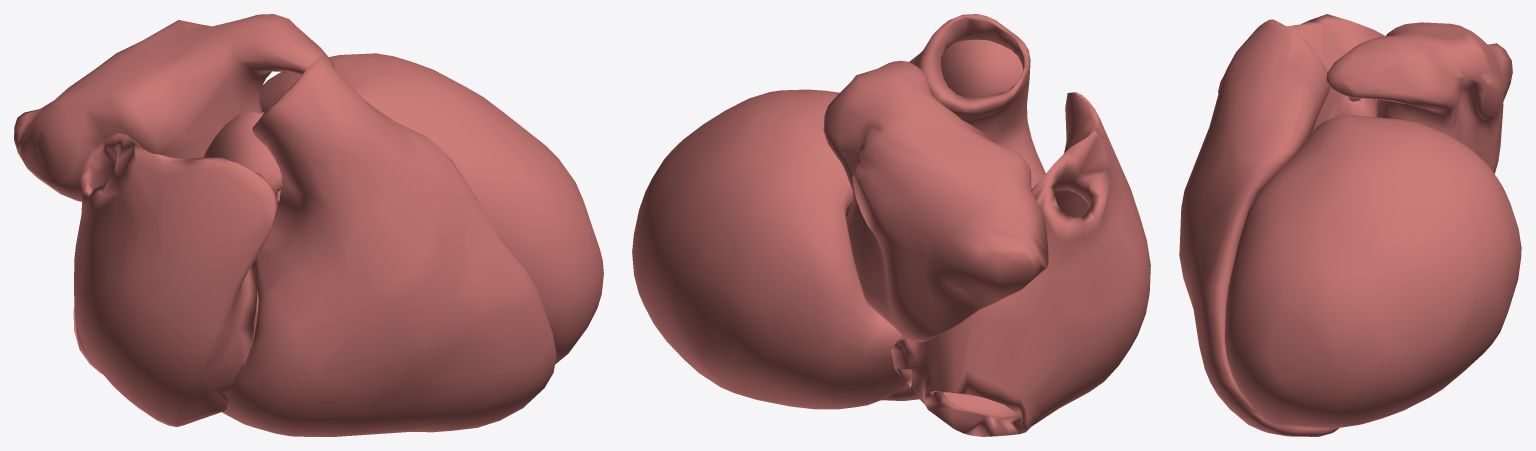
The model's file is vh_f_heart-20.glb.
3 views of the same model, side by side, from view 1: azimuth 30°, elevation 25°; view 2: azimuth 150°, elevation 25°; view 3: azimuth 270°, elevation 25° (orthographic). The views are drawn at different scales.
Parts seen in each view (by area): view 1: VH_F_right_ventricle, VH_F_right_cardiac_atrium, VH_F_left_ventricle, VH_F_left_cardiac_atrium, VH_F_aortic_valve; view 2: VH_F_left_ventricle, VH_F_left_cardiac_atrium, VH_F_right_cardiac_atrium, VH_F_right_ventricle, VH_F_pulmonary_valve; view 3: VH_F_left_ventricle, VH_F_right_ventricle, VH_F_left_cardiac_atrium, VH_F_right_cardiac_atrium, VH_F_aortic_valve.
Part boxes in pixels (left/top/right/bottom): VH_F_right_ventricle: left=222, top=57, right=556, bottom=436; VH_F_right_cardiac_atrium: left=73, top=133, right=278, bottom=426; VH_F_left_ventricle: left=259, top=53, right=603, bottom=364; VH_F_left_cardiac_atrium: left=14, top=14, right=334, bottom=201; VH_F_aortic_valve: left=203, top=111, right=282, bottom=202; VH_F_left_ventricle: left=632, top=89, right=906, bottom=409; VH_F_left_cardiac_atrium: left=823, top=60, right=1048, bottom=342; VH_F_right_cardiac_atrium: left=891, top=92, right=1150, bottom=436; VH_F_right_ventricle: left=881, top=14, right=1045, bottom=400; VH_F_pulmonary_valve: left=941, top=39, right=1022, bottom=97; VH_F_left_ventricle: left=1224, top=115, right=1521, bottom=428; VH_F_right_ventricle: left=1179, top=19, right=1338, bottom=436; VH_F_left_cardiac_atrium: left=1326, top=22, right=1512, bottom=173; VH_F_right_cardiac_atrium: left=1218, top=14, right=1384, bottom=102; VH_F_aortic_valve: left=1312, top=87, right=1376, bottom=132.
Bounding box in the file's own units: 0.1426 × 0.1098 × 0.1014.
